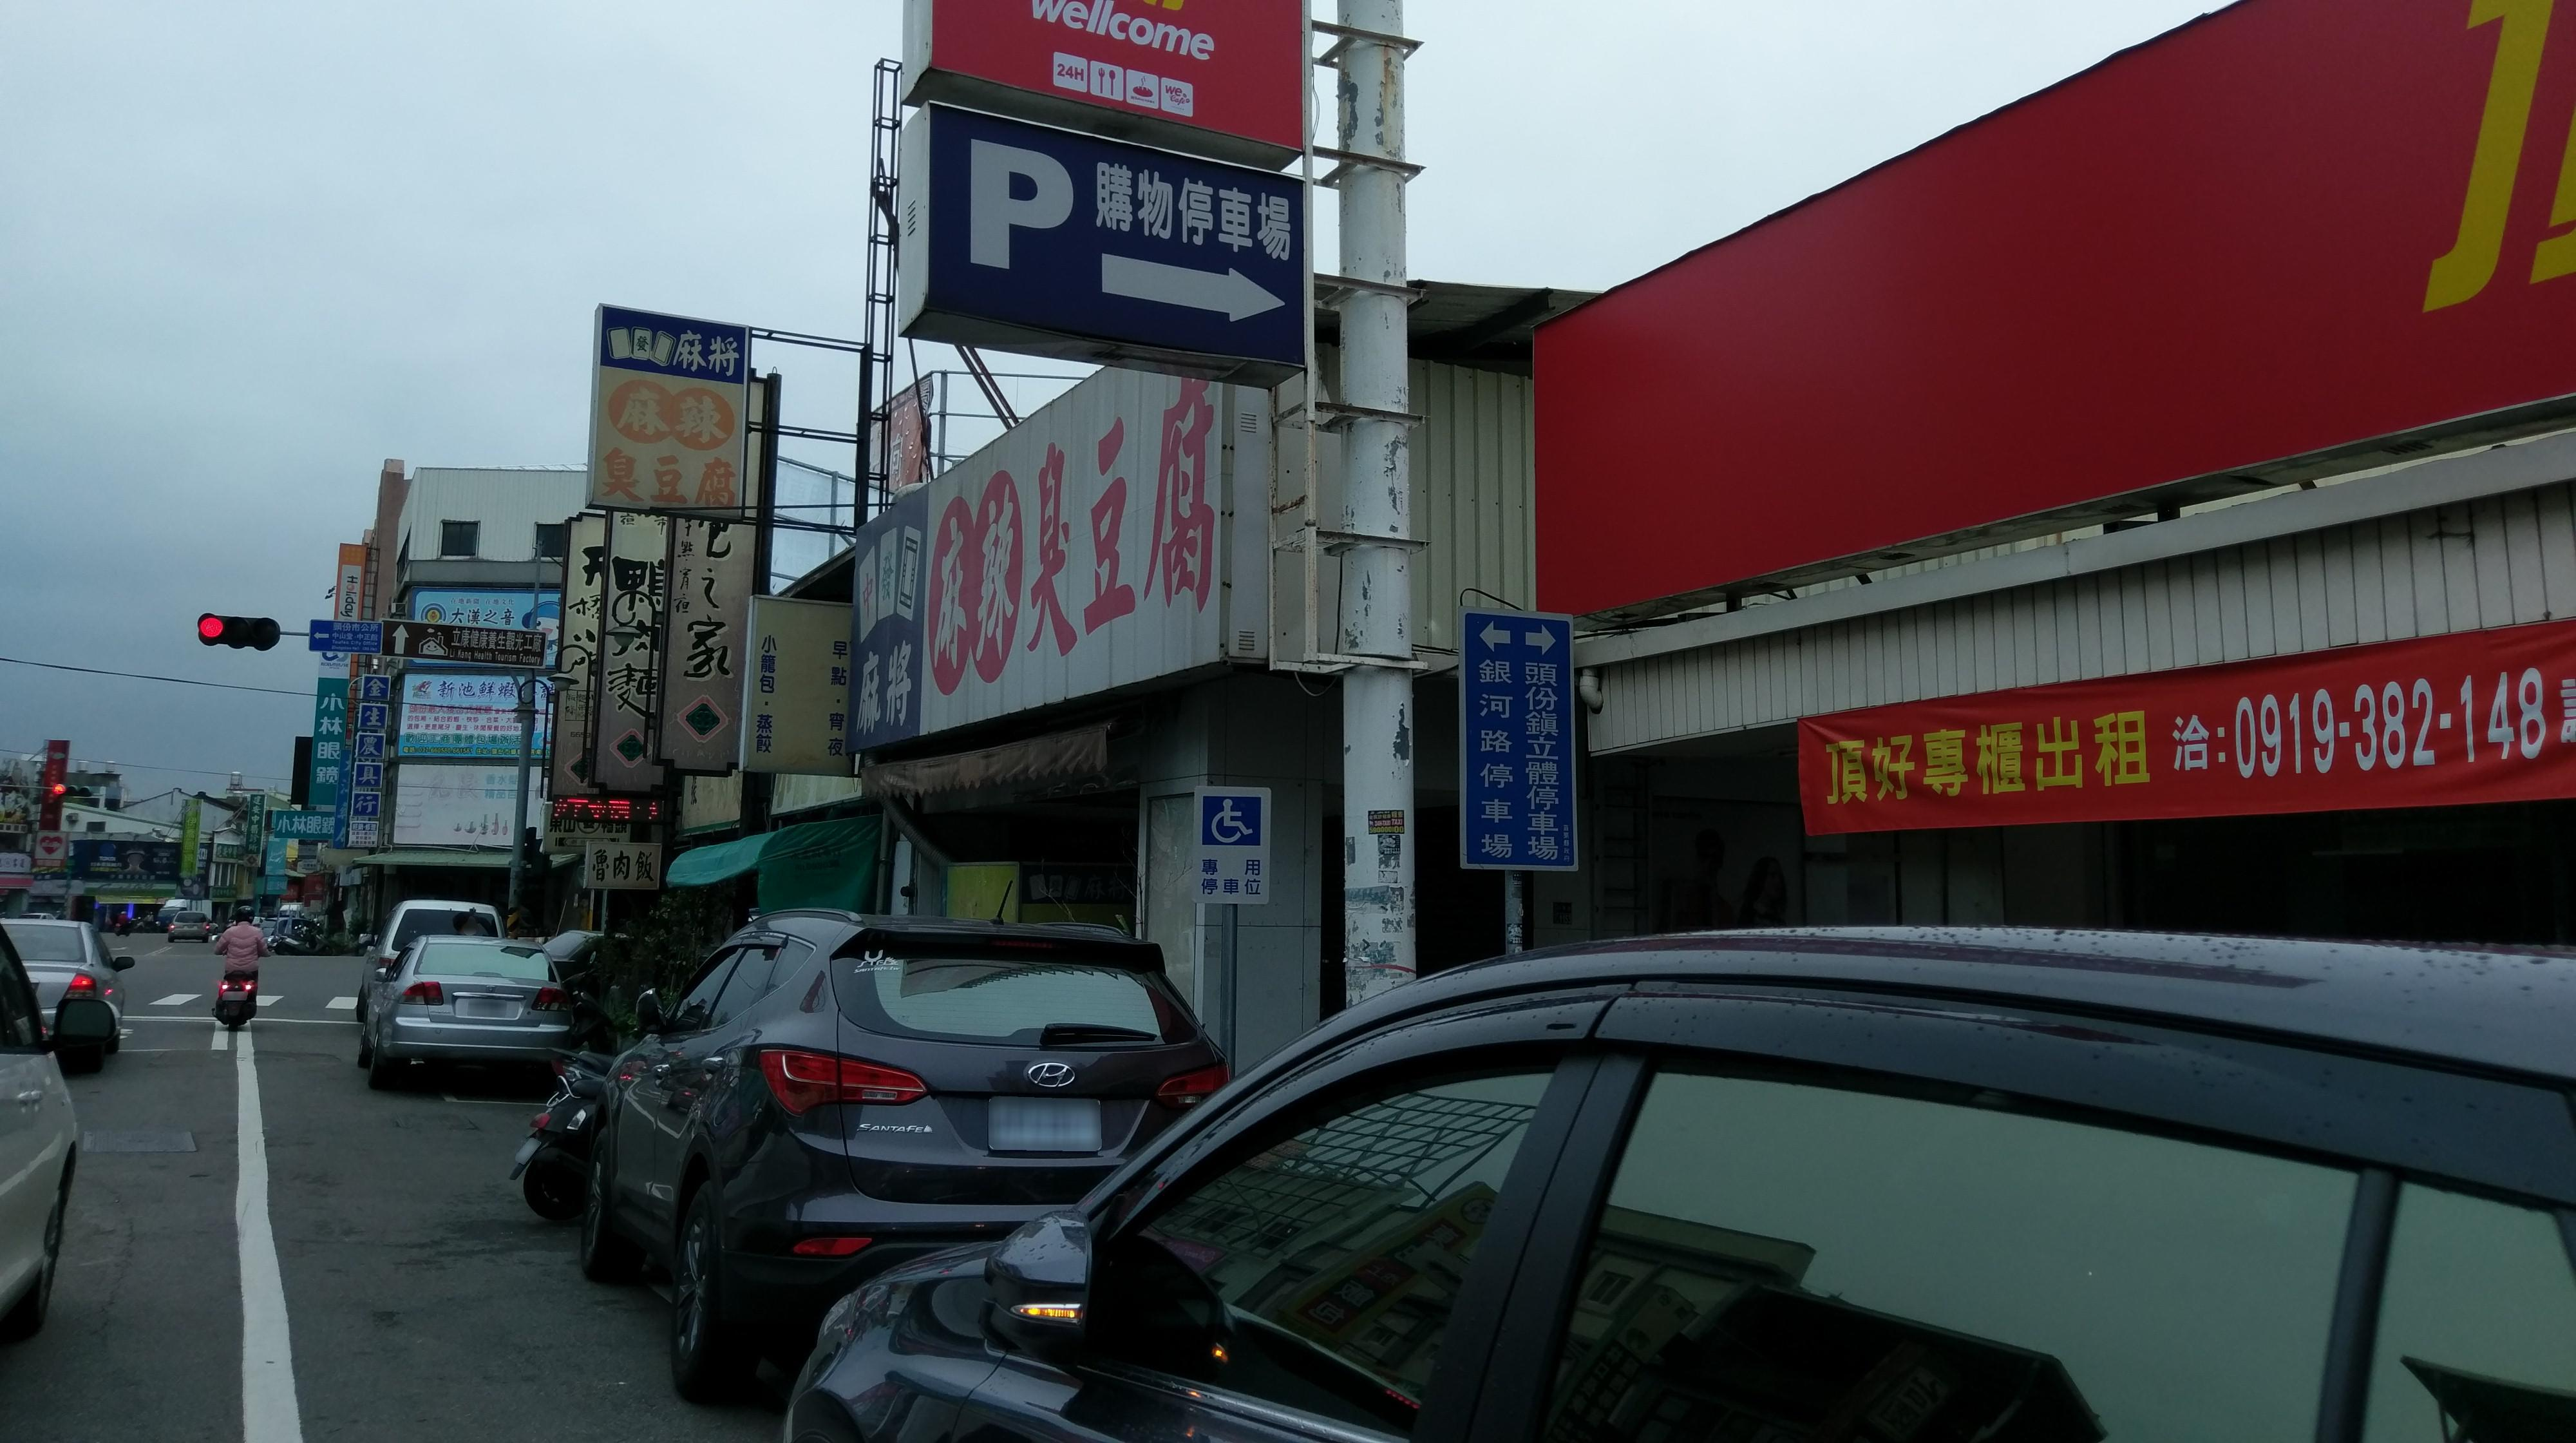vinyl banner: (1752, 620, 2576, 866)
